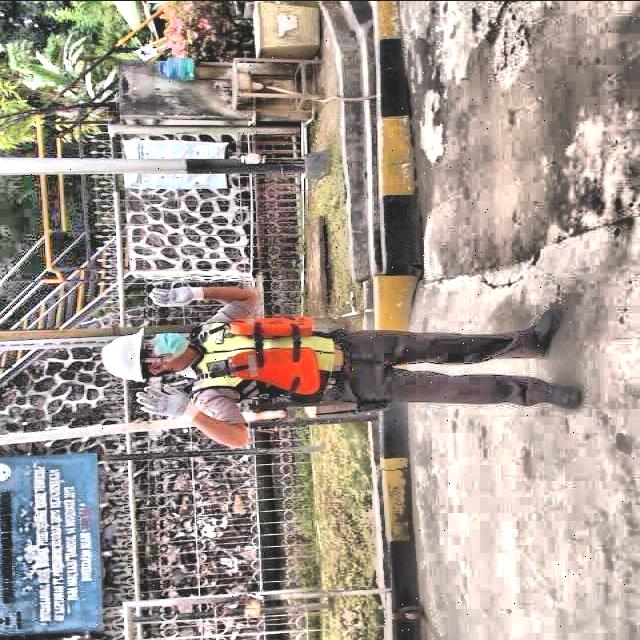gloved: (130, 383, 203, 425), (147, 282, 207, 308)
